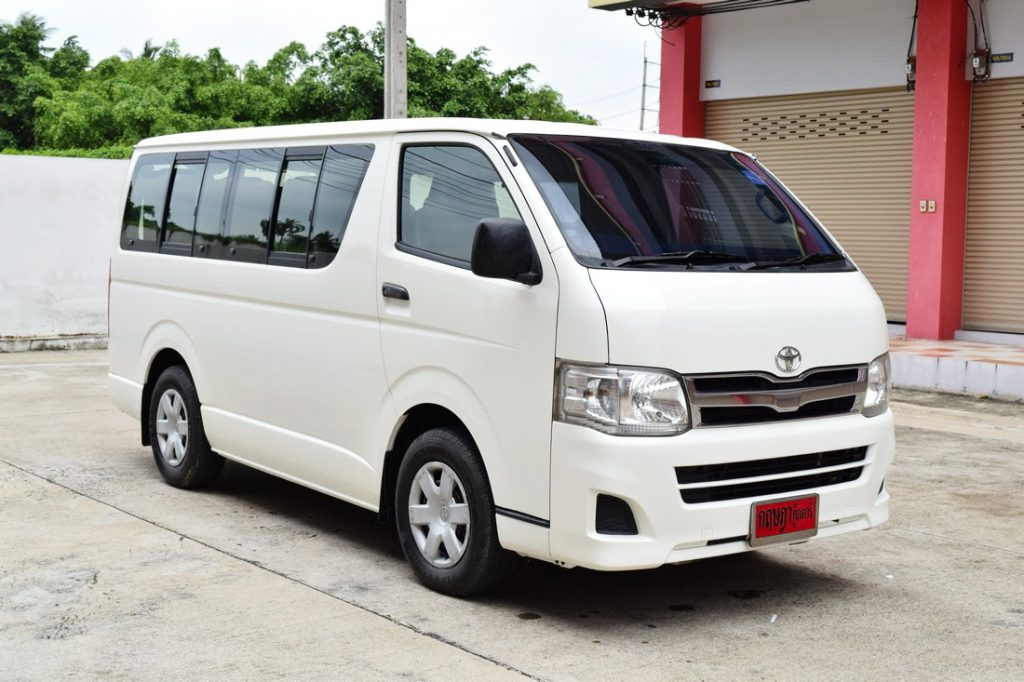van: (106, 113, 900, 599)
